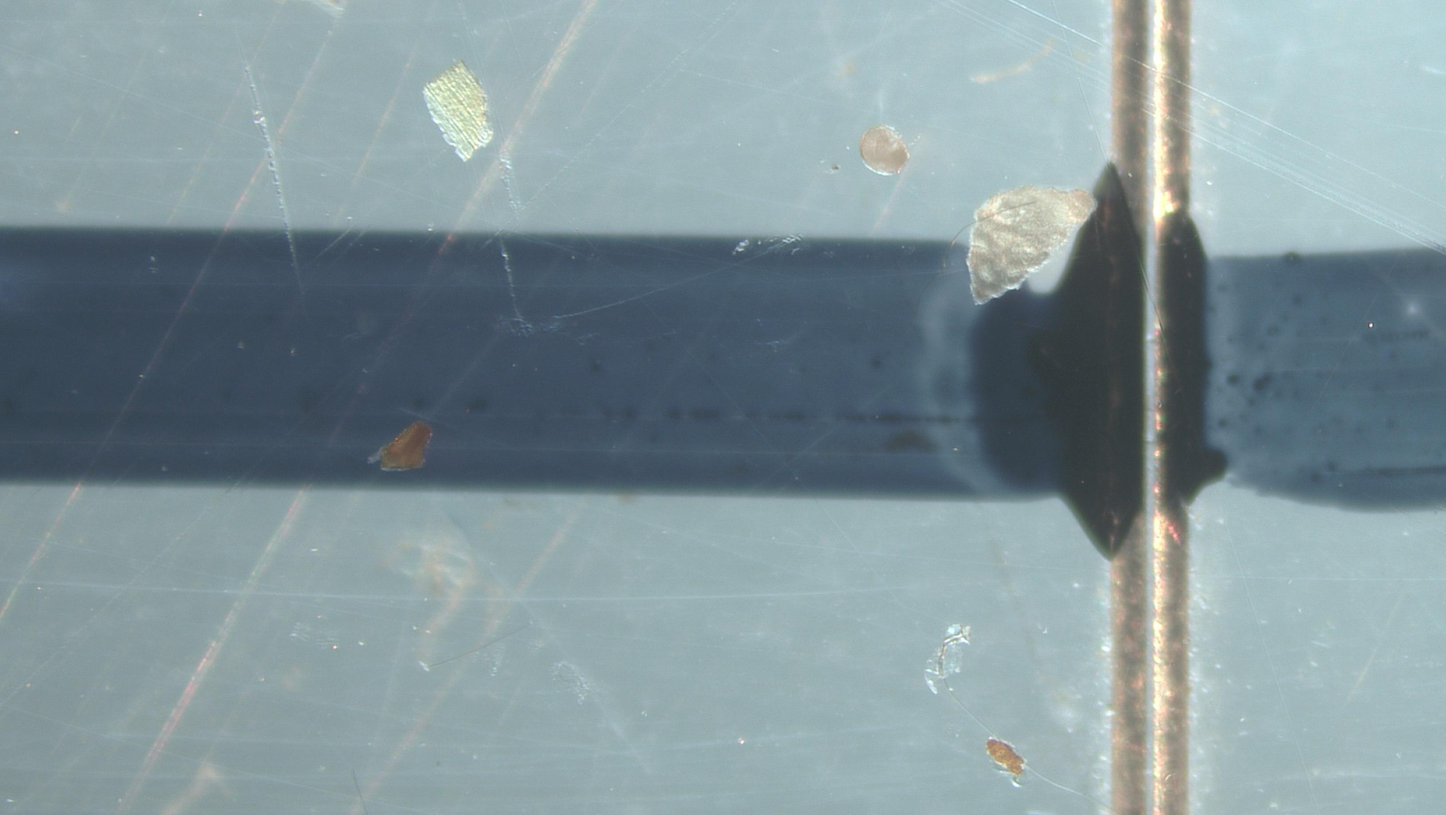live: (859, 126, 910, 175)
